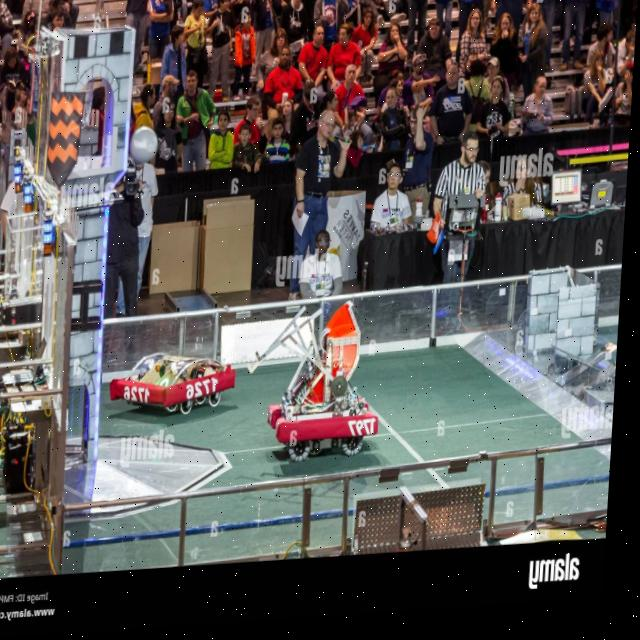robot: (270, 309, 390, 474), (112, 351, 240, 430)
